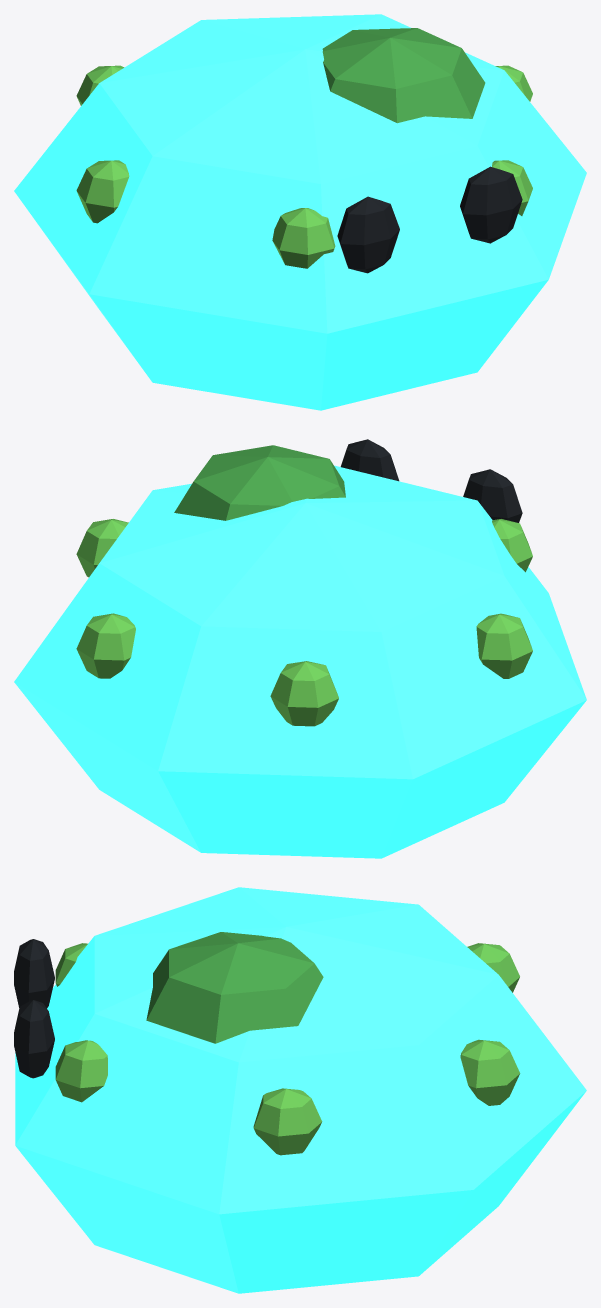
Rendered from cell-lod1.glb.
3 views of the same model, one above another, from view 1: azimuth 30°, elevation 25°; view 2: azimuth 150°, elevation 25°; view 3: azimuth 270°, elevation 25° (orthographic). The views are drawn at different scales.
Parts seen in each view (by area): view 1: cell; view 2: cell; view 3: cell.
Boxes of the visible parts, x1=… form: cell: x1=14, y1=14, x2=586, y2=410; cell: x1=14, y1=439, x2=586, y2=858; cell: x1=14, y1=887, x2=586, y2=1293.
Size of the model in its own units: 0.9749 by 0.626 by 0.9524.
